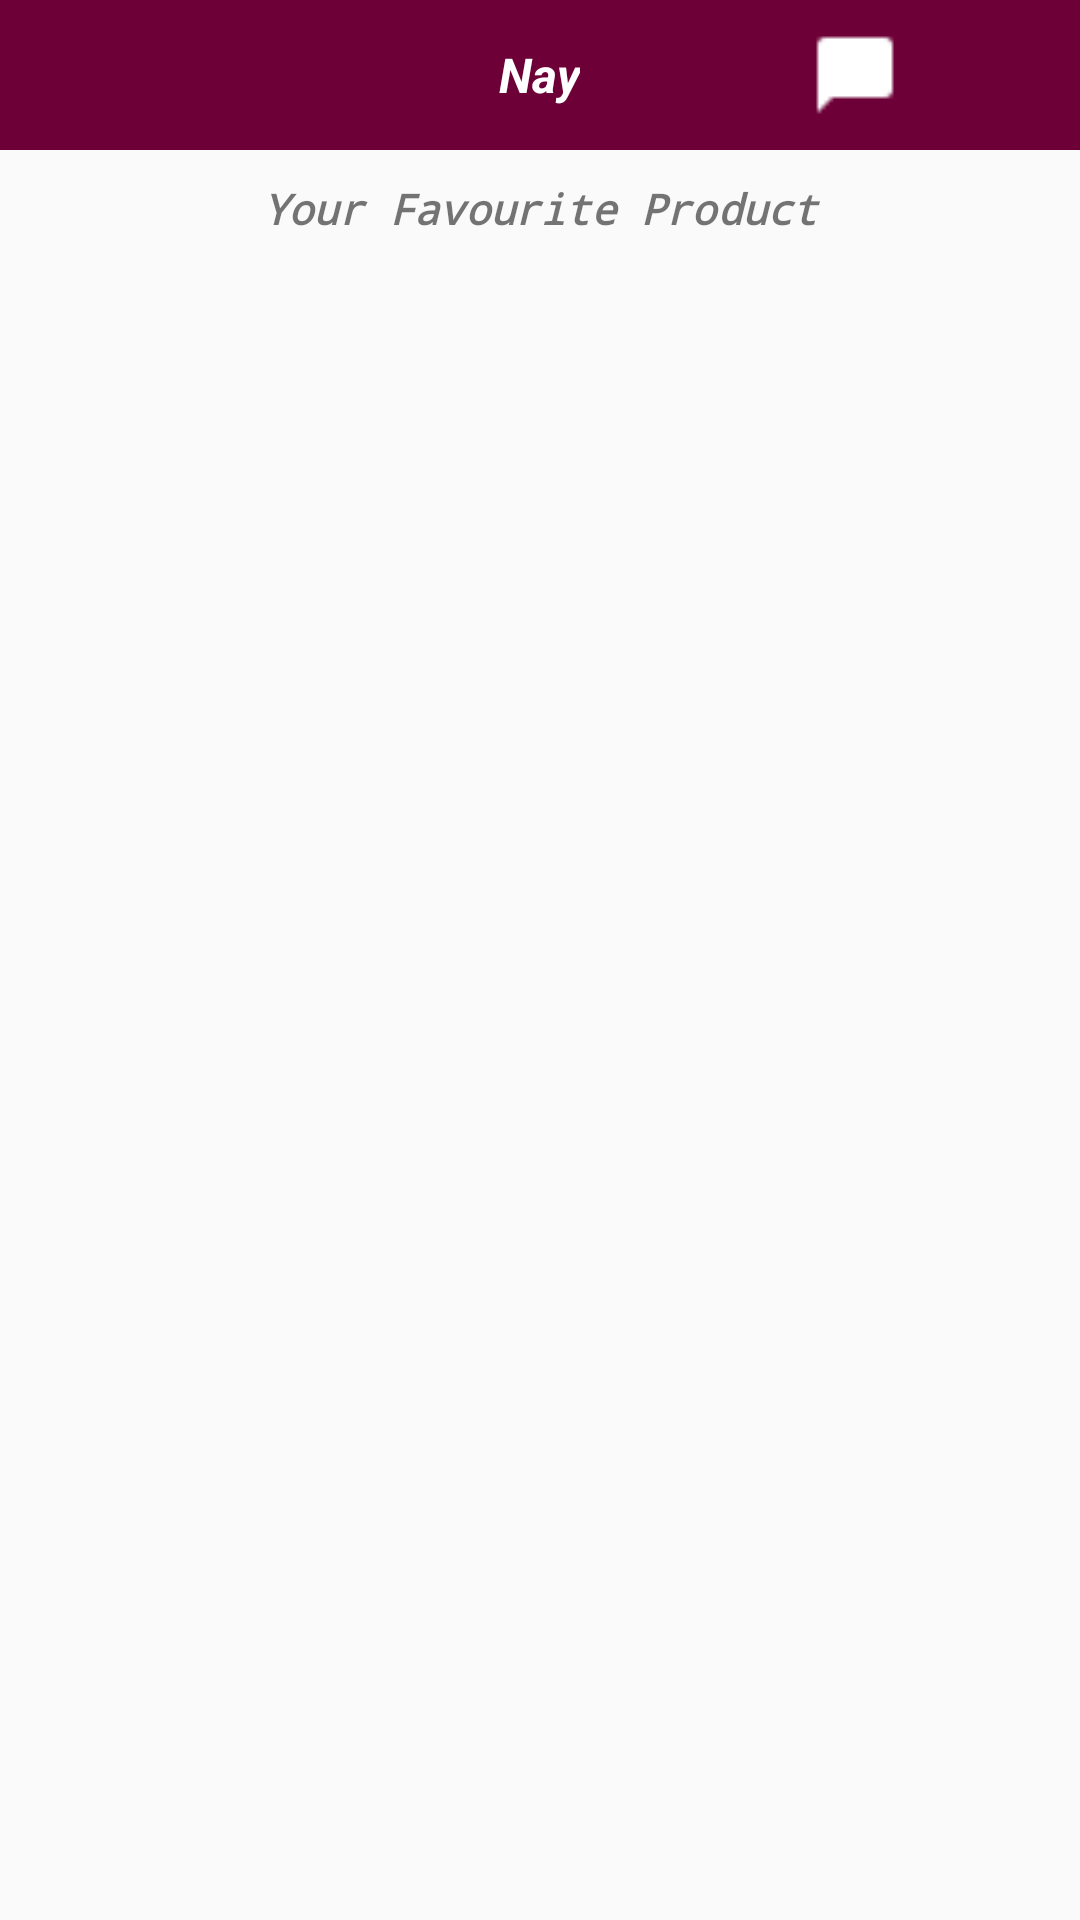

Icon click points for this 1080px x 1920px phone screenshot, format (x=x, y=y):
iconfinder chat bubble: (x=855, y=75)
